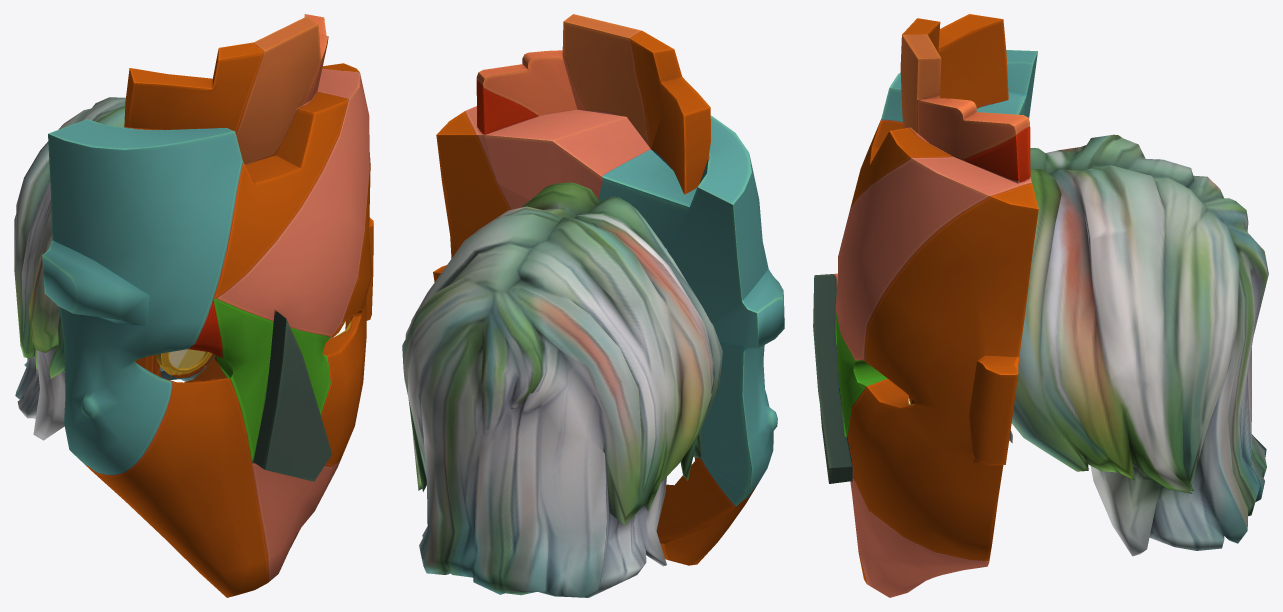
3 views of the same model, side by side, from view 1: azimuth 30°, elevation 25°; view 2: azimuth 150°, elevation 25°; view 3: azimuth 270°, elevation 25° (orthographic). The views are drawn at different scales.
Visible parts, largest first — view 1: Wolf3D_Headwear; view 2: Wolf3D_Headwear; view 3: Wolf3D_Headwear.
Part boxes in pixels (x1,y1,x2,y2): Wolf3D_Headwear: (14,14,373,597); Wolf3D_Headwear: (402,14,784,597); Wolf3D_Headwear: (813,14,1268,597).
Bounding box in the file's own units: 0.2421 × 0.3818 × 0.2728.
1 material, 1 textured.
